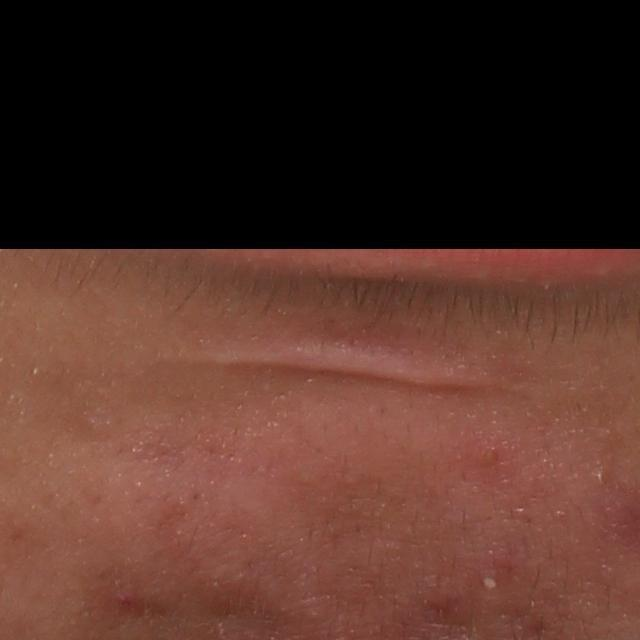papule: (468, 437, 505, 470)
pustule: (475, 564, 503, 596)
